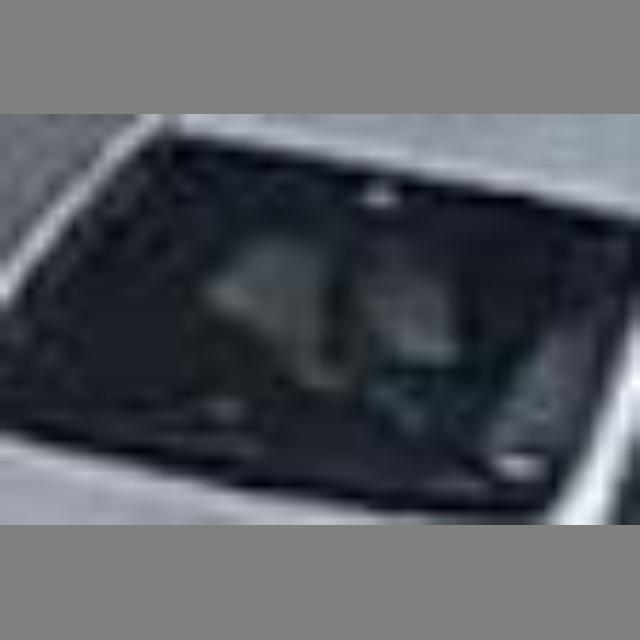tidak-pakai: (206, 194, 457, 400)
